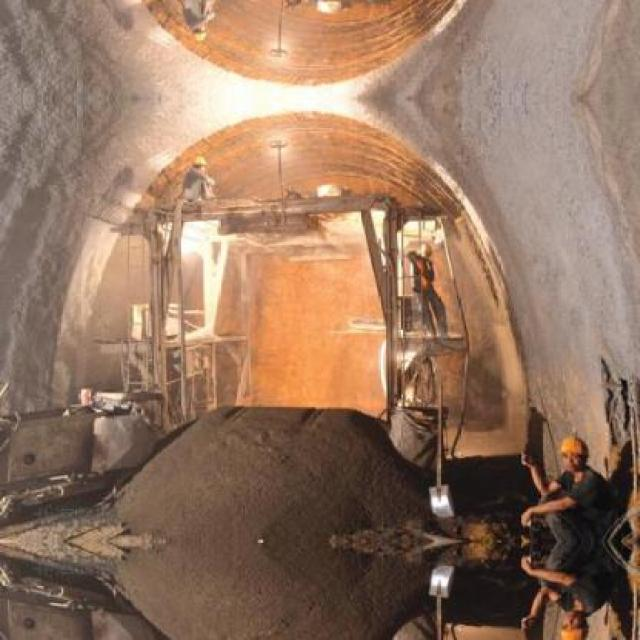helmet: (560, 433, 586, 472), (559, 608, 586, 637), (188, 23, 206, 45), (188, 152, 206, 173), (418, 240, 432, 260)
